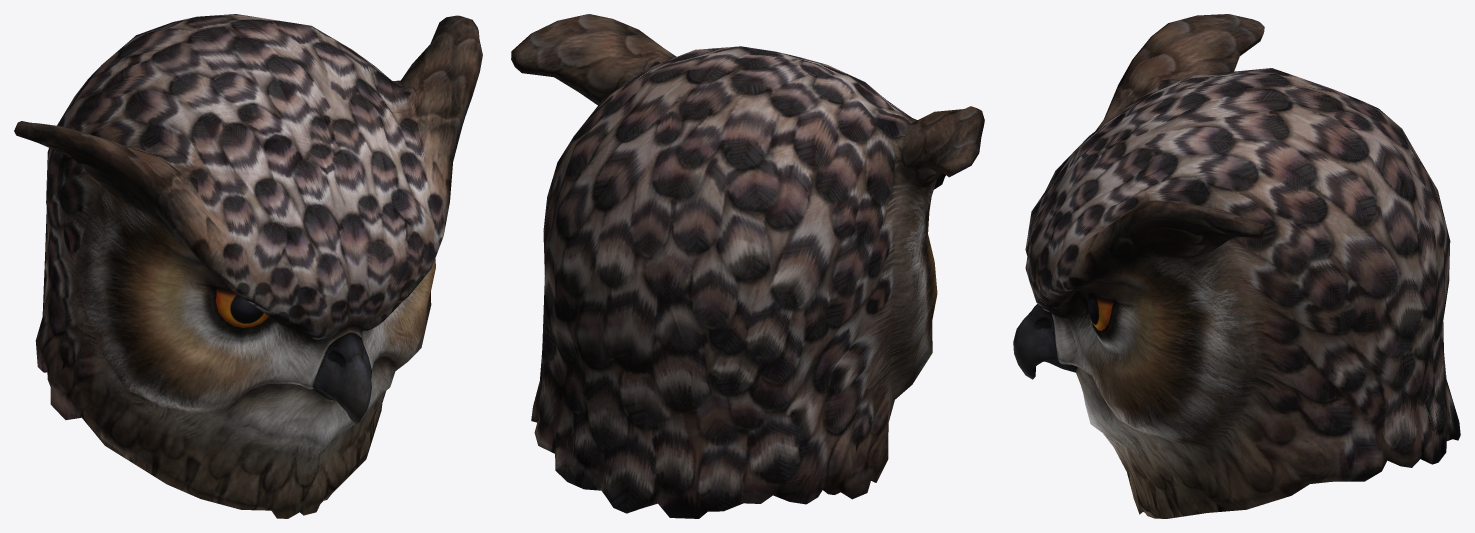
File: SurvivorMale_Head_Mask_Owl_LOD0.glb
3 views of the same model, side by side, from view 1: azimuth 30°, elevation 25°; view 2: azimuth 150°, elevation 25°; view 3: azimuth 270°, elevation 25° (orthographic). The views are drawn at different scales.
Visible parts, largest first — view 1: Hoodie; view 2: Hoodie; view 3: Hoodie.
Boxes of the visible parts, x1,y1,x2,y2 form: Hoodie: (14, 14, 482, 518); Hoodie: (511, 14, 984, 518); Hoodie: (1013, 14, 1460, 518).
Size of the model in its own units: 0.3439 by 0.3172 by 0.307.
Materials: 1 (1 with a texture image).
